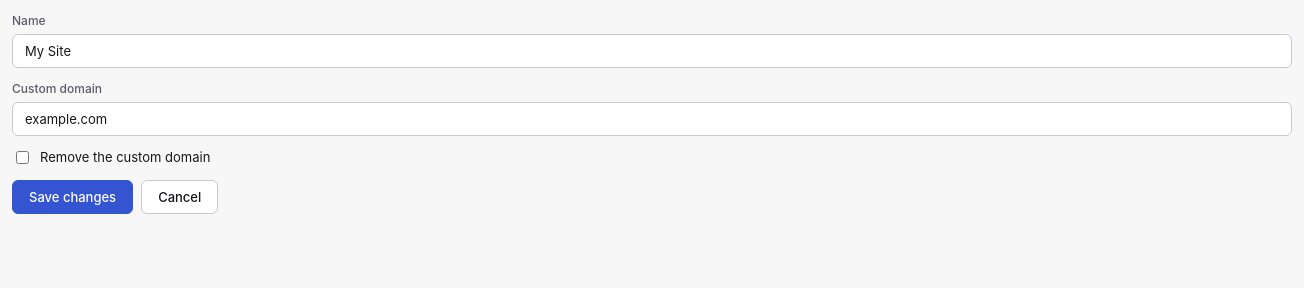
Scenario: EditWebsiteForm › shows the backend's own validation error verbatim
Click the button "Save changes": {"x": 73, "y": 196} top-left (12, 180), bottom-right (133, 214)
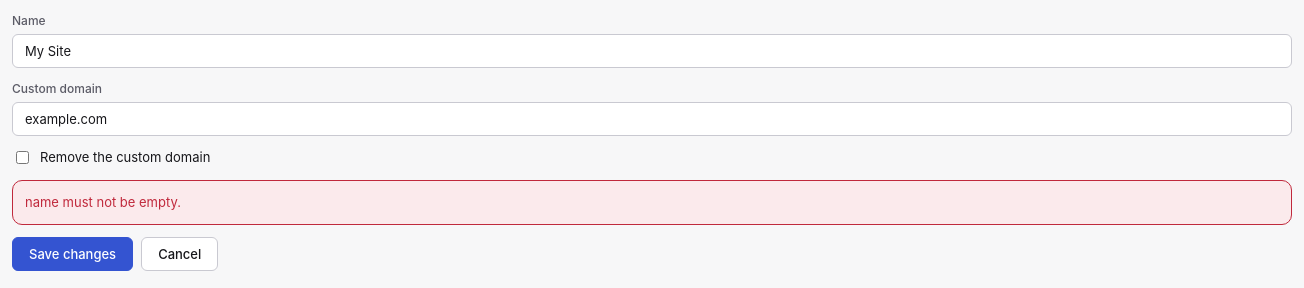
Check: the text "name must not be empty." is shown, box top-left (25, 194), bottom-right (181, 210)
